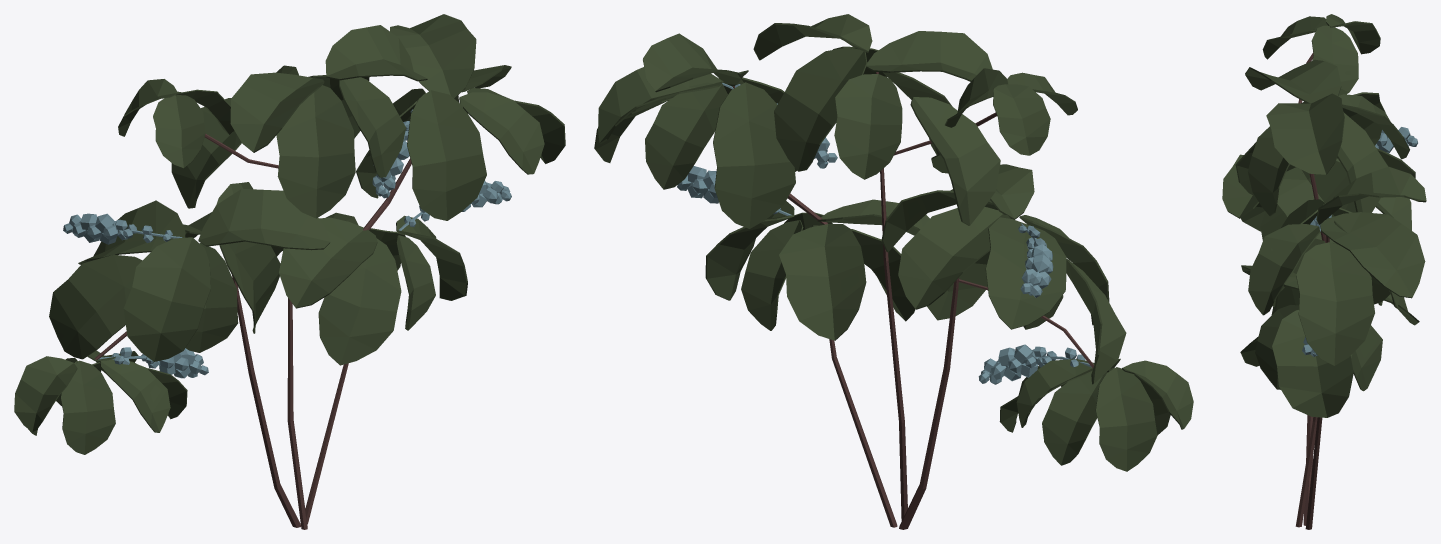
Rendered from smallTree.fbx.
The picture shows the model from 3 angles, left to right: view 1: azimuth 30°, elevation 25°; view 2: azimuth 150°, elevation 25°; view 3: azimuth 270°, elevation 25°; orthographic projection. The views are drawn at different scales.
Parts seen in each view (by area): view 1: smallTree; view 2: smallTree; view 3: smallTree.
Boxes of the visible parts, x1,y1,x2,y2 form: smallTree: [14, 14, 565, 529]; smallTree: [594, 14, 1193, 529]; smallTree: [1222, 14, 1426, 529].
Size of the model in its own units: 8.47 by 6.99 by 2.81.
